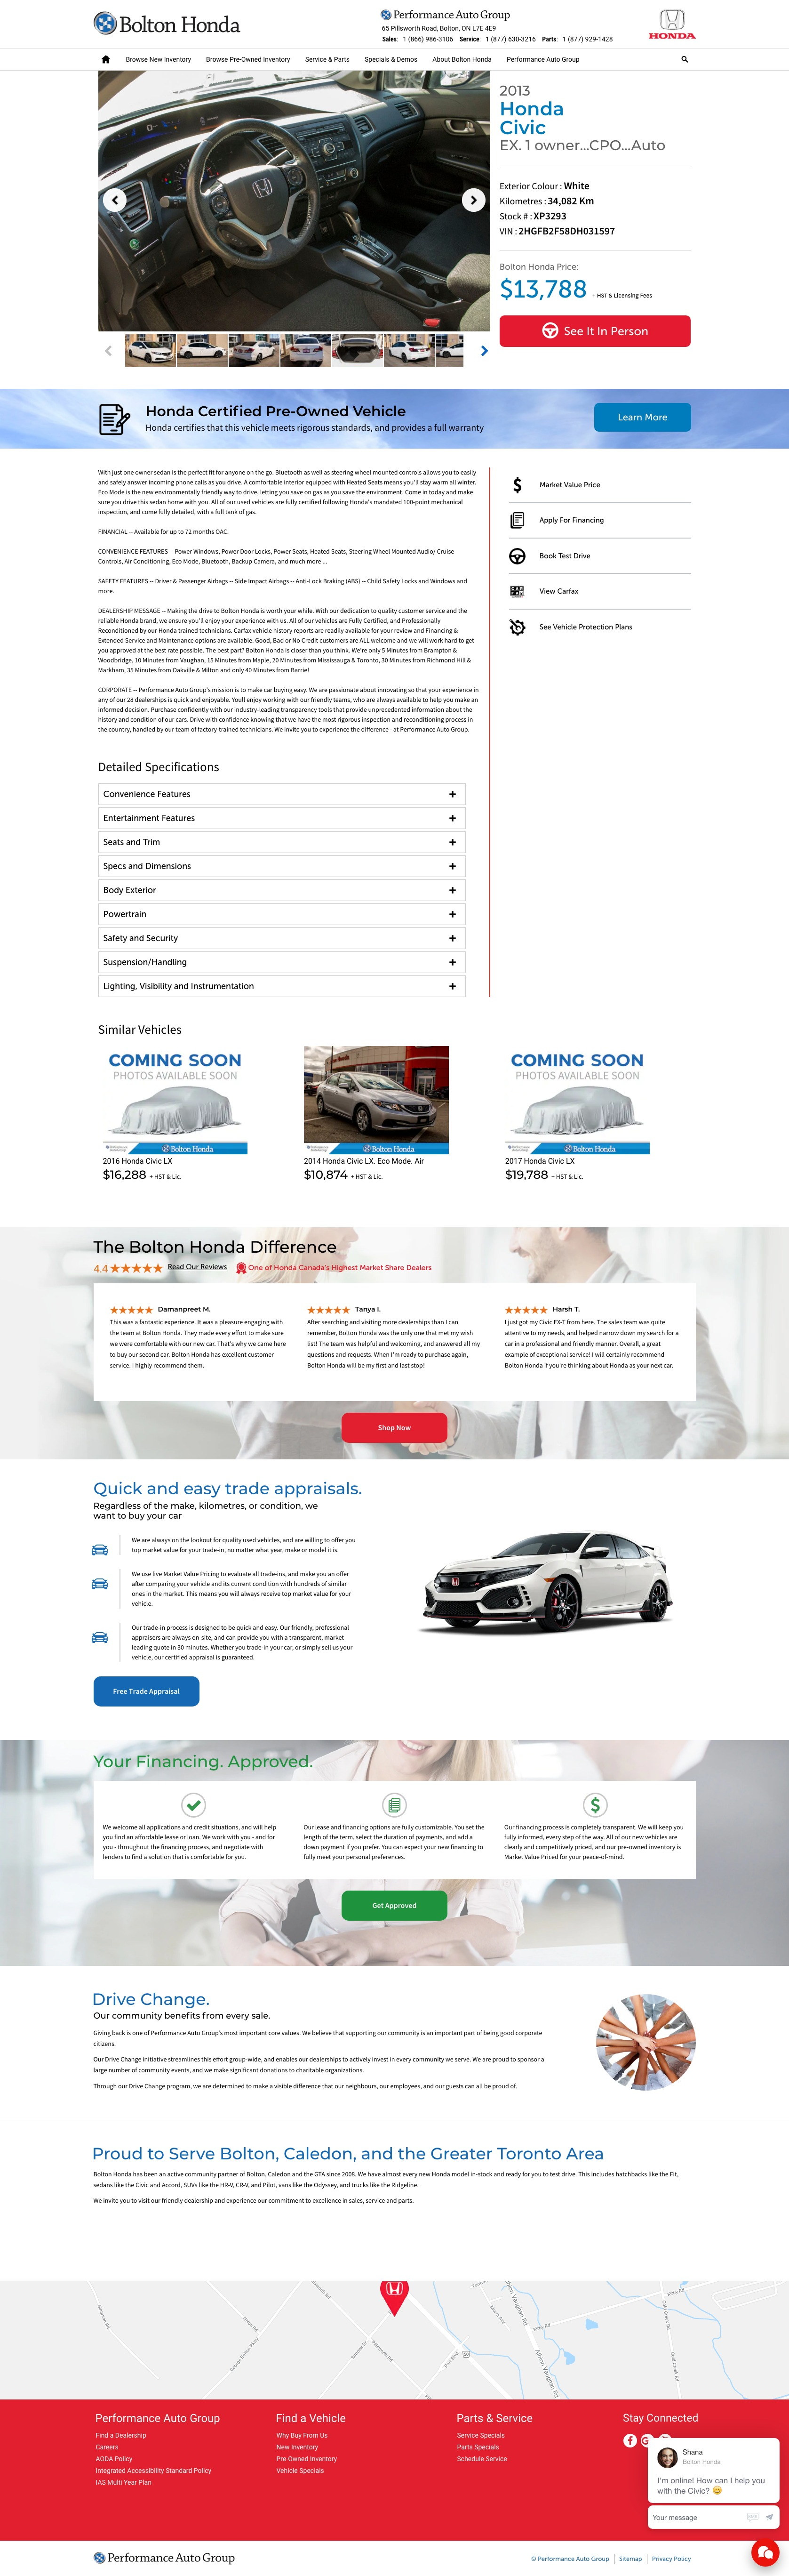car: (481, 347, 489, 356)
